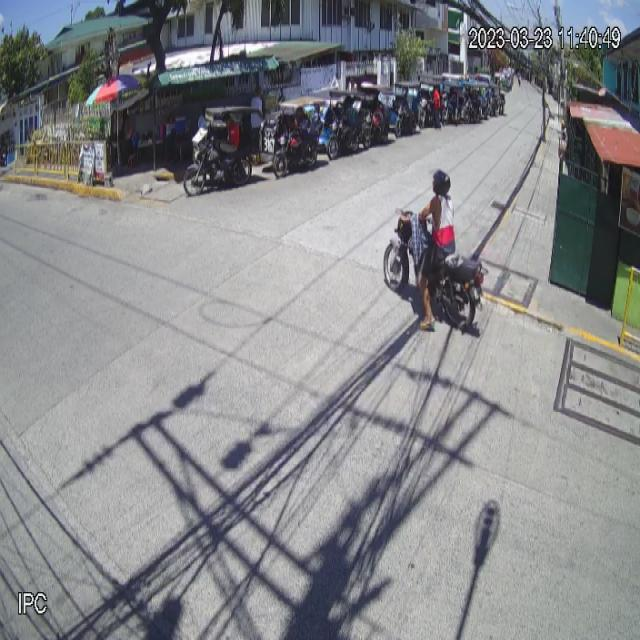Motorcycle: (383, 207, 487, 333)
